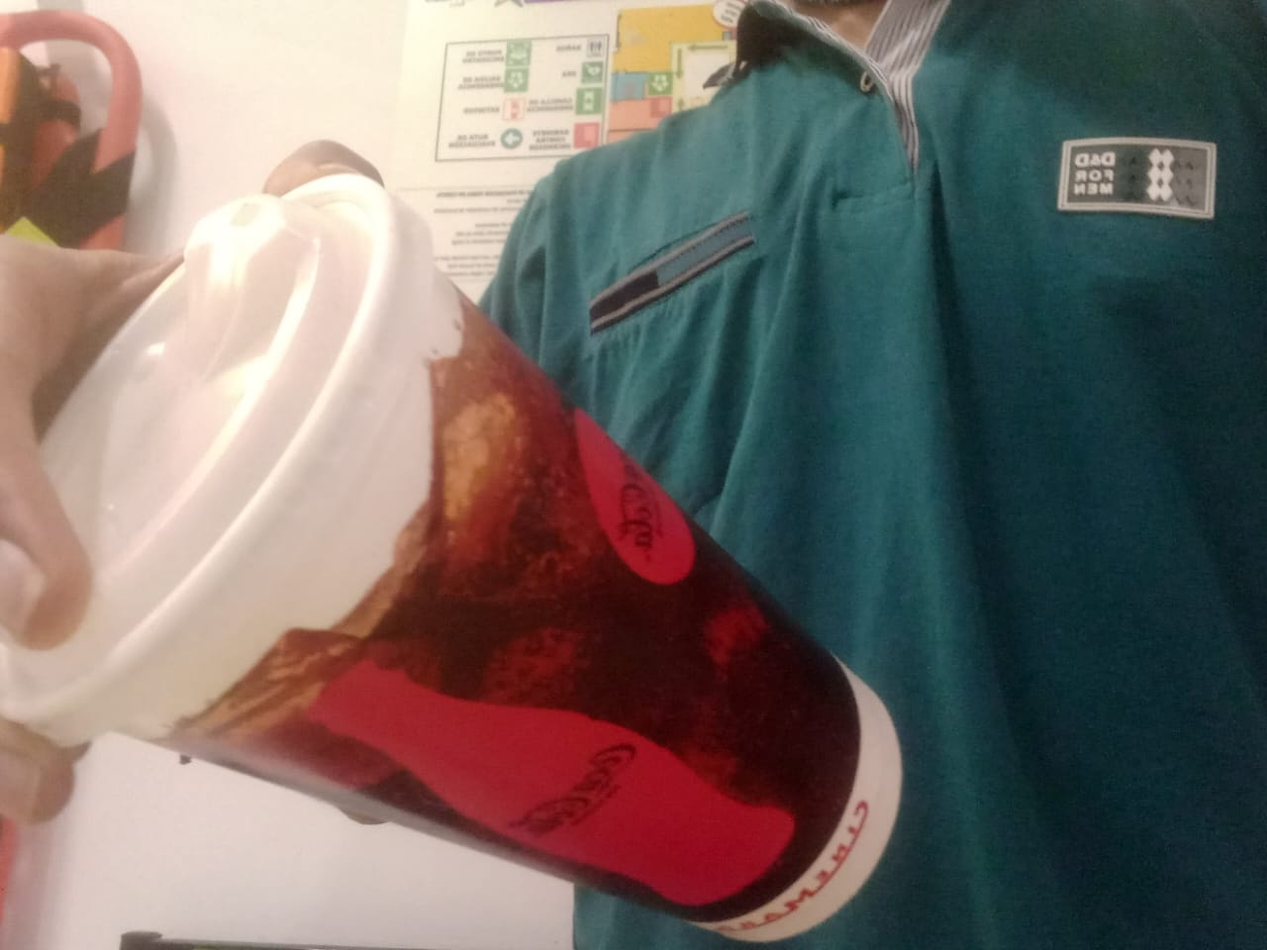Carton: (3, 176, 905, 942)
